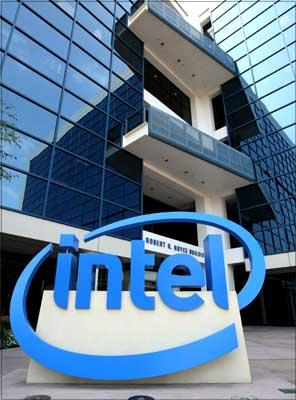intel: (13, 207, 265, 379)
